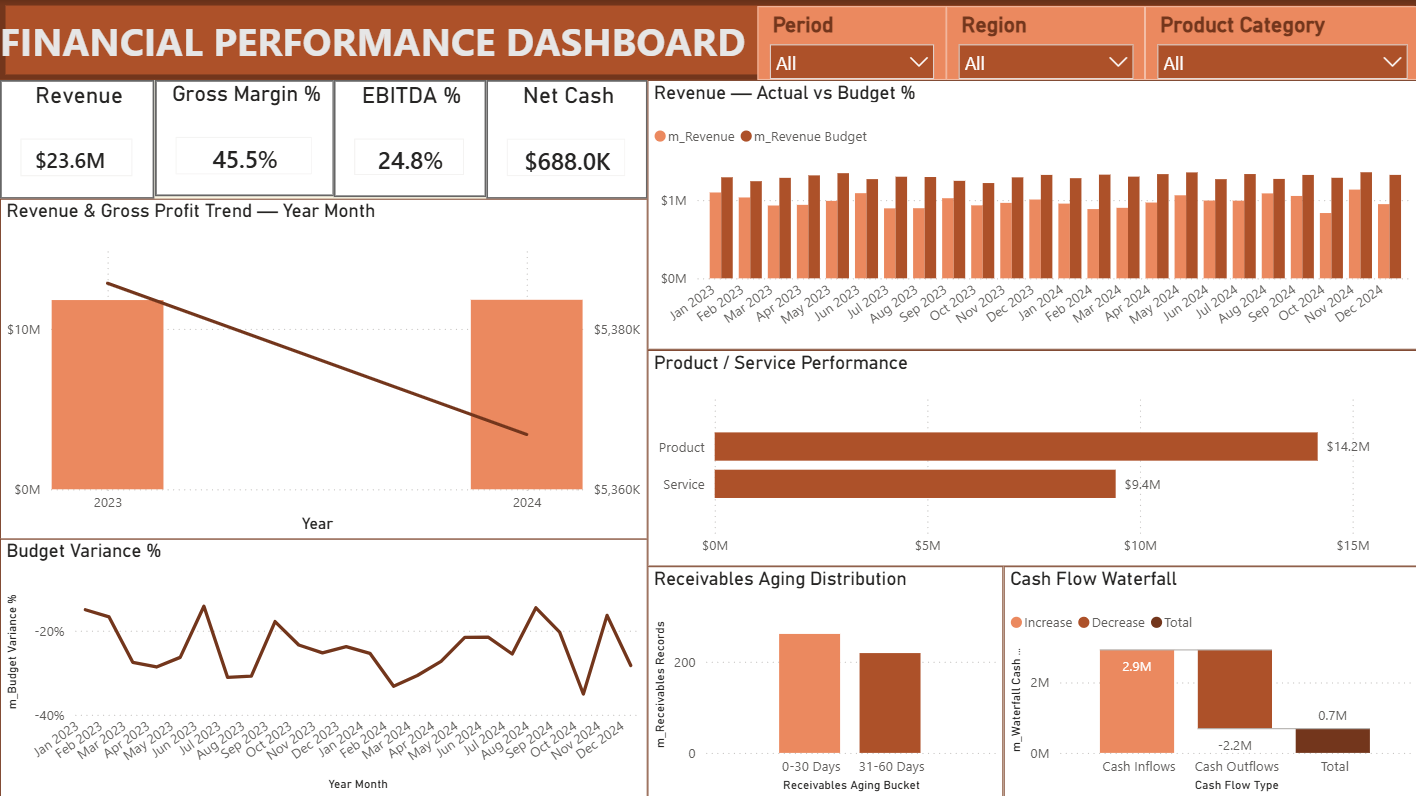

Layout of this report page (visuals, bound fields, positions):
{"tool":"powerbi","page":{"name":"Page 1","canvas":[1280,720],"ordinal":0},"visuals":[{"type":"shape","box":[0,0,1280.3,72.1],"z":0},{"type":"slicer","fields":{"Values":["DimMonth.Date Hierarchy.Year","DimMonth.Date Hierarchy.Quarter","DimMonth.Date Hierarchy.Year Month"]},"box":[683,5.4,170.1,66.7],"z":1000},{"type":"slicer","fields":{"Values":["DimRegion.Region"]},"box":[853.1,5.4,179.6,66.7],"z":2000},{"type":"slicer","fields":{"Values":["DimProduct.Product Category"]},"box":[1032.7,5.4,247.6,66.7],"z":3000},{"type":"cardVisual","title":"Revenue","fields":{"Data":["FactFinancial.m_Revenue"]},"box":[0,72.1,139.5,107],"z":4000},{"type":"cardVisual","title":"Gross Margin %","fields":{"Data":["FactFinancial.m_Gross Margin %"]},"box":[139.5,72.1,161.6,104.7],"z":5000},{"type":"cardVisual","title":"Net Cash","fields":{"Data":["FactFinancial.m_Net Cash"]},"box":[438.4,72.1,145.3,107],"z":6000},{"type":"cardVisual","title":"EBITDA %","fields":{"Data":["FactFinancial.m_EBITDA %"]},"box":[301.2,72.1,137.2,105.8],"z":7000},{"type":"lineClusteredColumnComboChart","title":"Revenue & Gross Profit Trend — Year Month","fields":{"Category":["DimMonth.Date Hierarchy.Year","DimMonth.Date Hierarchy.Quarter","DimMonth.Date Hierarchy.Year Month"],"Y":["FactFinancial.m_Revenue"],"Y2":["FactFinancial.m_Gross Profit"]},"box":[0,179.1,583.7,307],"z":8000},{"type":"lineClusteredColumnComboChart","title":"Revenue — Actual vs Budget","fields":{"Category":["DimMonth.Year Month"],"Y":["FactFinancial.m_Revenue","FactFinancial.m_Revenue Budget"]},"box":[583.7,72.1,696.5,243],"z":9000},{"type":"lineChart","title":"Budget Variance %","fields":{"Category":["DimMonth.Year Month"],"Y":["FactFinancial.m_Budget Variance %"]},"box":[0,486,583.7,233.7],"z":10000},{"type":"clusteredBarChart","title":"Product / Service Performance","fields":{"Category":["DimProduct.Product Category Hierarchy.Product Category","DimProduct.Product Category Hierarchy.Product/Service"],"Y":["FactFinancial.m_Revenue"]},"box":[583.7,315.1,696.5,195.3],"z":11000},{"type":"clusteredColumnChart","title":"Receivables Aging Distribution","fields":{"Category":["FactFinancial.Receivables Aging Bucket"],"Y":["FactFinancial.m_Receivables Records"]},"box":[583.7,510.5,320.9,209.3],"z":12000},{"type":"waterfallChart","title":"Cash Flow Waterfall","fields":{"Y":["Cash Flow Type.m_Waterfall Cash Flow"],"Category":["Cash Flow Type.Cash Flow Type"]},"box":[904.7,510.5,375.6,209.3],"z":13000}]}

Visuals, with their boxes in screenshot pixels (x1, y1, x2, y2), scaled from the page's 1280x720 canvas onto the 1416x796 screenshot:
shape: Rect(0, 0, 1415, 80)
slicer - DimMonth.Date Hierarchy.Year x DimMonth.Date Hierarchy.Quarter: Rect(756, 6, 944, 80)
slicer - DimRegion.Region: Rect(944, 6, 1142, 80)
slicer - DimProduct.Product Category: Rect(1142, 6, 1415, 80)
"Revenue" cardVisual: Rect(0, 80, 154, 198)
"Gross Margin %" cardVisual: Rect(154, 80, 333, 195)
"Net Cash" cardVisual: Rect(485, 80, 646, 198)
"EBITDA %" cardVisual: Rect(333, 80, 485, 197)
"Revenue & Gross Profit Trend — Year Month" lineClusteredColumnComboChart: Rect(0, 198, 646, 537)
"Revenue — Actual vs Budget" lineClusteredColumnComboChart: Rect(646, 80, 1415, 348)
"Budget Variance %" lineChart: Rect(0, 537, 646, 795)
"Product / Service Performance" clusteredBarChart: Rect(646, 348, 1415, 564)
"Receivables Aging Distribution" clusteredColumnChart: Rect(646, 564, 1001, 795)
"Cash Flow Waterfall" waterfallChart: Rect(1001, 564, 1415, 795)
